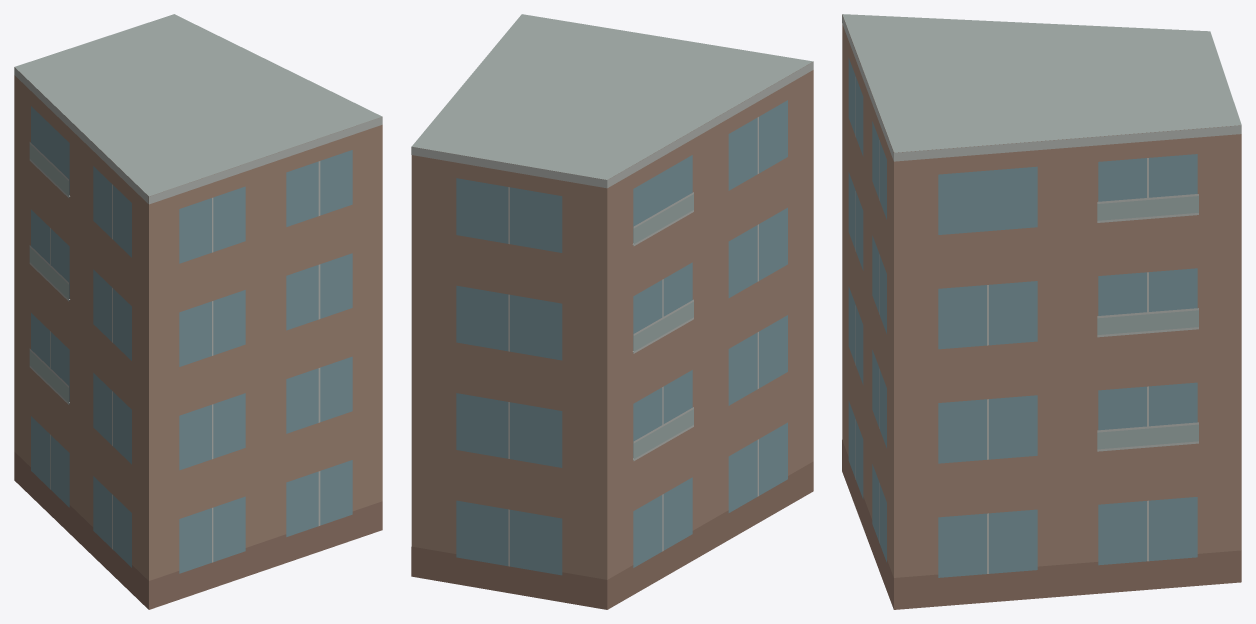
Rendered from survey-upis-32503952.glb.
3 renders of one model, left to right at view 1: azimuth 30°, elevation 25°; view 2: azimuth 150°, elevation 25°; view 3: azimuth 270°, elevation 25°, orthographic. The views are drawn at different scales.
Visible parts, largest first — view 1: survey-upis-32503952.tmp; view 2: survey-upis-32503952.tmp; view 3: survey-upis-32503952.tmp.
Boxes of the visible parts, x1=… form: survey-upis-32503952.tmp: x1=14, y1=14, x2=382, y2=609; survey-upis-32503952.tmp: x1=411, y1=14, x2=813, y2=609; survey-upis-32503952.tmp: x1=842, y1=14, x2=1241, y2=609.
Bounding box in the file's own units: 8.21 × 12.6 × 9.99.
